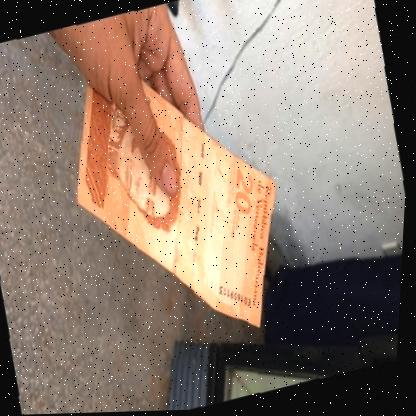twenty-front-vef: (47, 41, 314, 370)
